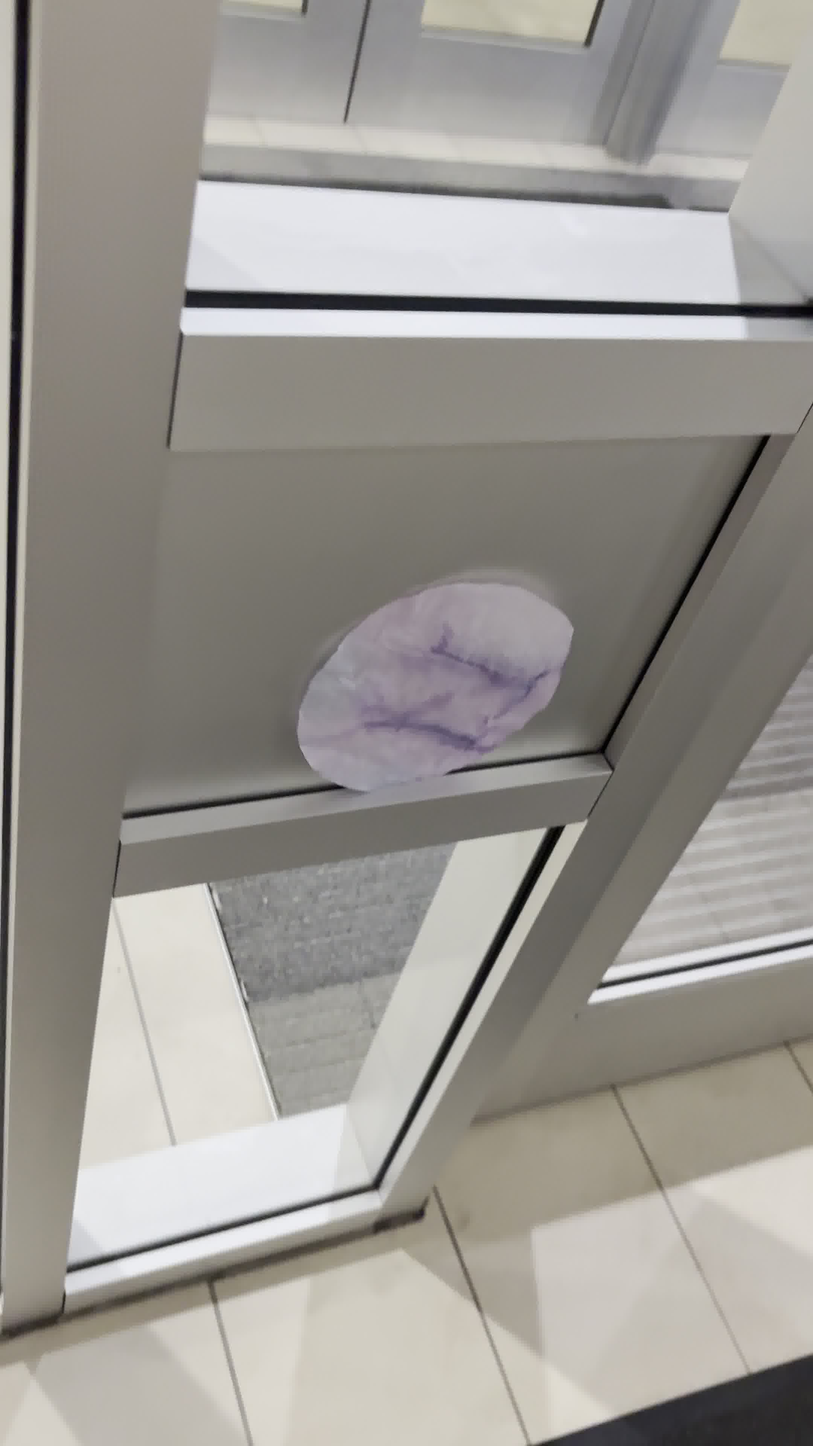Target: (292, 577, 578, 795)
